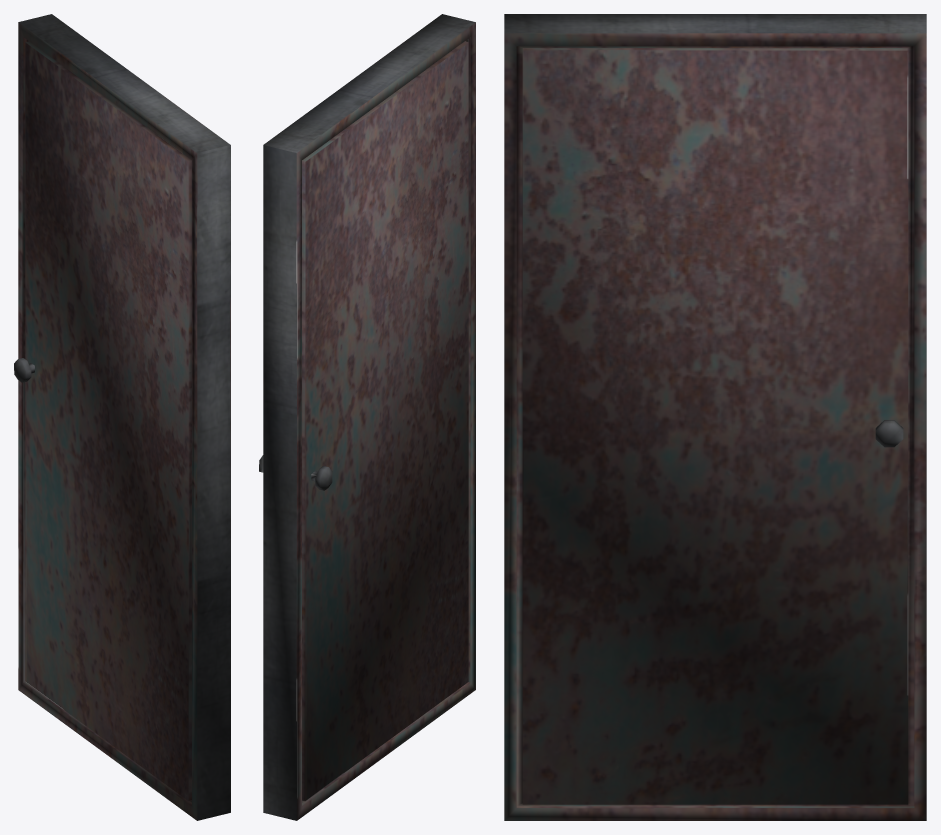
File: Autopsy1Door.glb
The picture shows the model from 3 angles, left to right: view 1: azimuth 30°, elevation 25°; view 2: azimuth 150°, elevation 25°; view 3: azimuth 270°, elevation 25°; orthographic projection. The views are drawn at different scales.
Parts seen in each view (by area): view 1: Cube; view 2: Cube; view 3: Cube.
Part boxes in pixels (left/top/right/bottom): Cube: left=14, top=14, right=230, bottom=820; Cube: left=259, top=14, right=475, bottom=820; Cube: left=504, top=14, right=926, bottom=820.
Bounding box in the file's own units: 0.5965 × 5.54 × 2.69.
Materials: 1 (1 with a texture image).
